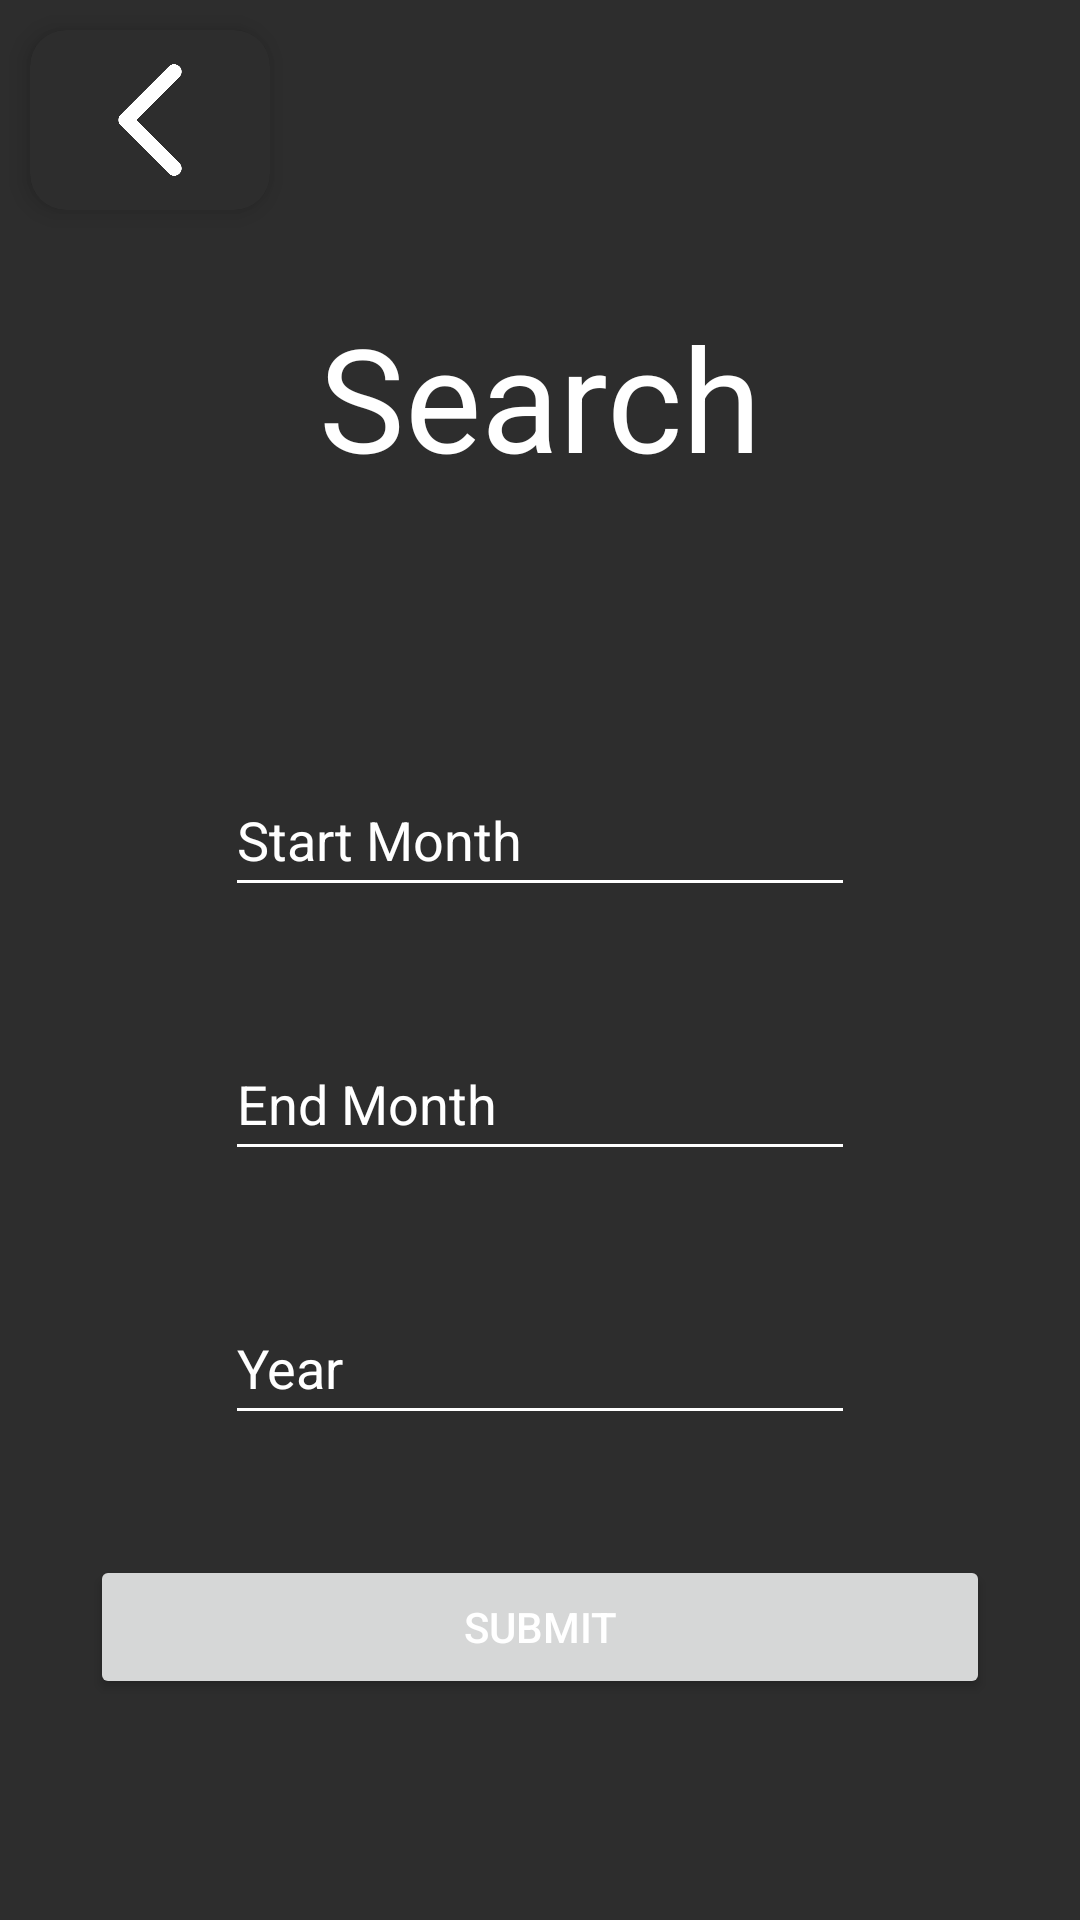

Icon click points for this 1080 x 1920 phone screenshot, format (x=x, y=y):
backarrow: (x=150, y=120)
